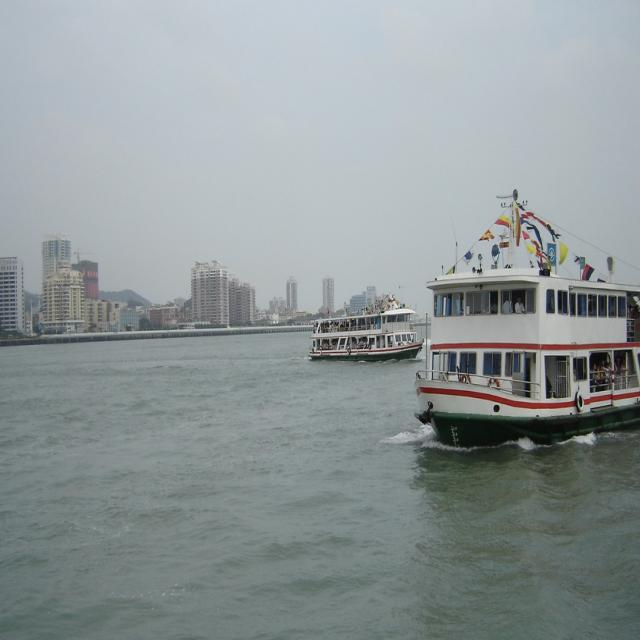passenger ship: (407, 201, 640, 453), (305, 300, 417, 364)
